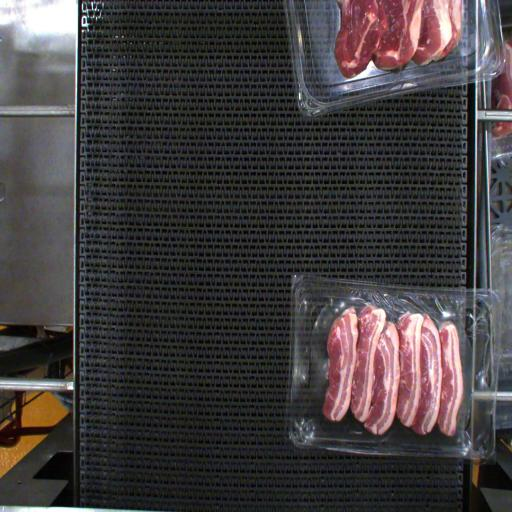unsealed: (289, 275, 491, 459)
